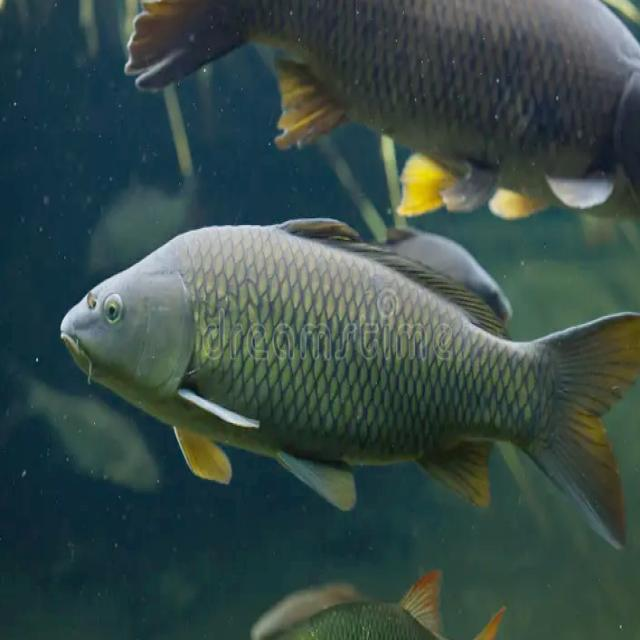Common carp: (57, 218, 640, 547)
